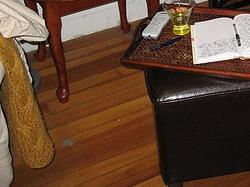chair: (192, 0, 250, 62)
